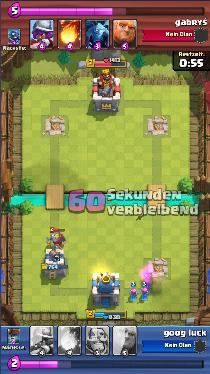ally_archer: (140, 285, 149, 302), (128, 286, 138, 301)
enemy_knight: (45, 230, 67, 248)
